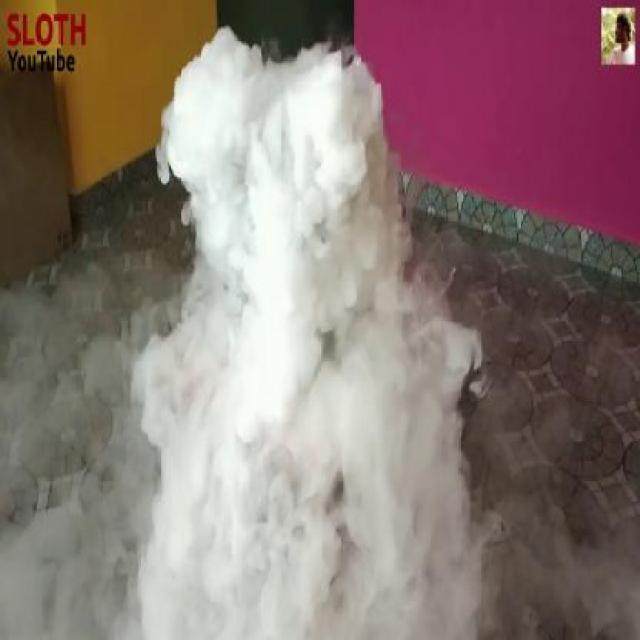smoke: (138, 46, 498, 640)
